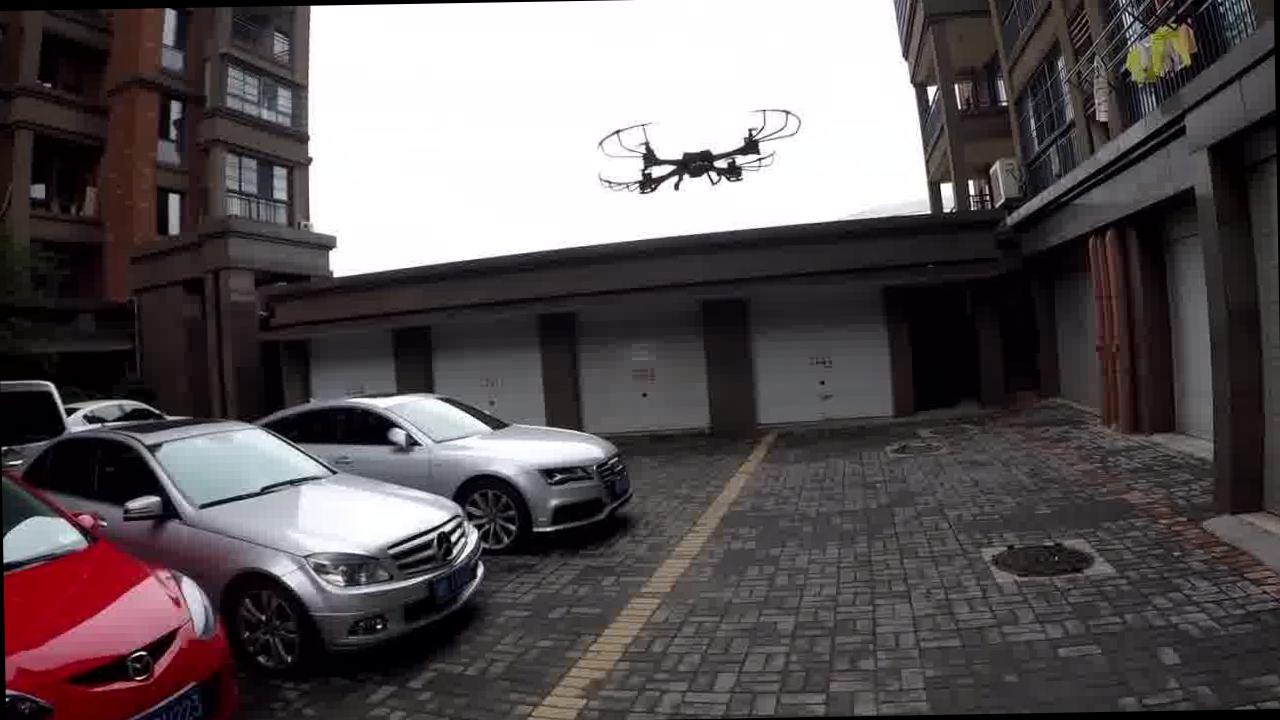drone: (564, 92, 820, 209)
